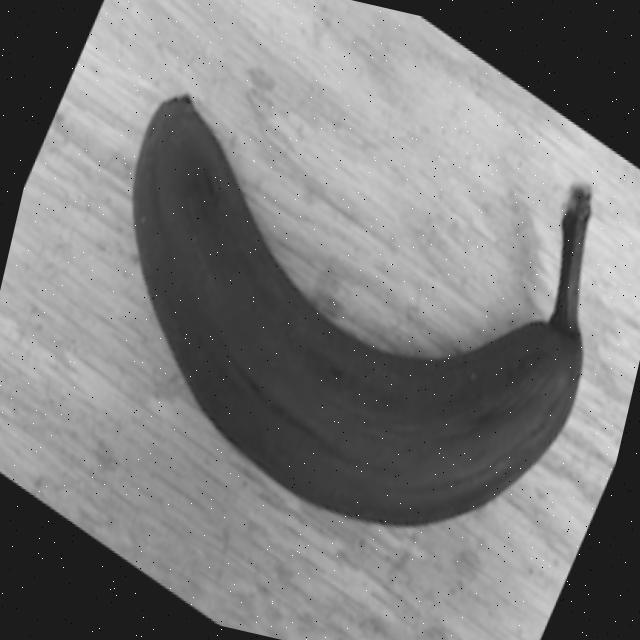Rotten: (65, 87, 619, 562)
